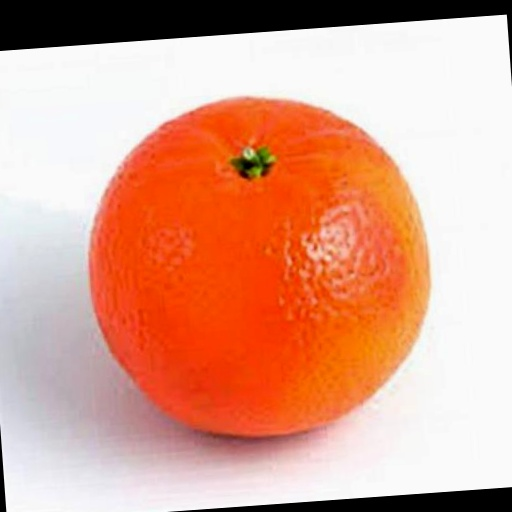fruit: (89, 99, 429, 435)
